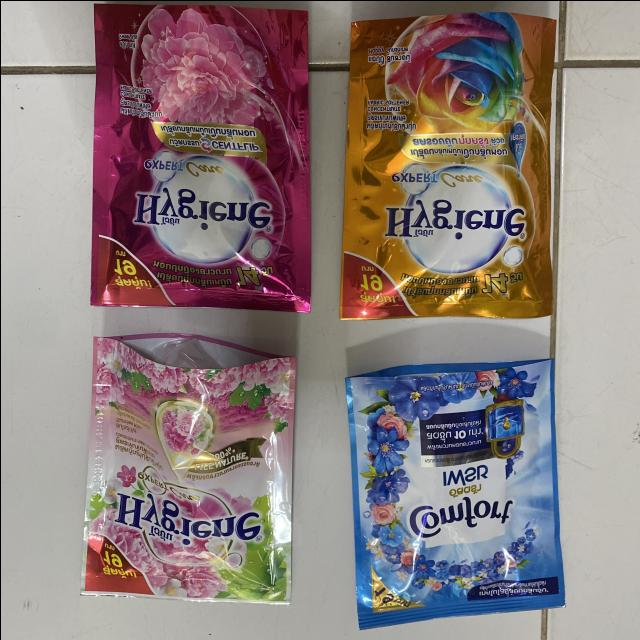plastik: (90, 4, 309, 311), (340, 12, 555, 319), (345, 359, 565, 629), (81, 334, 295, 603)
